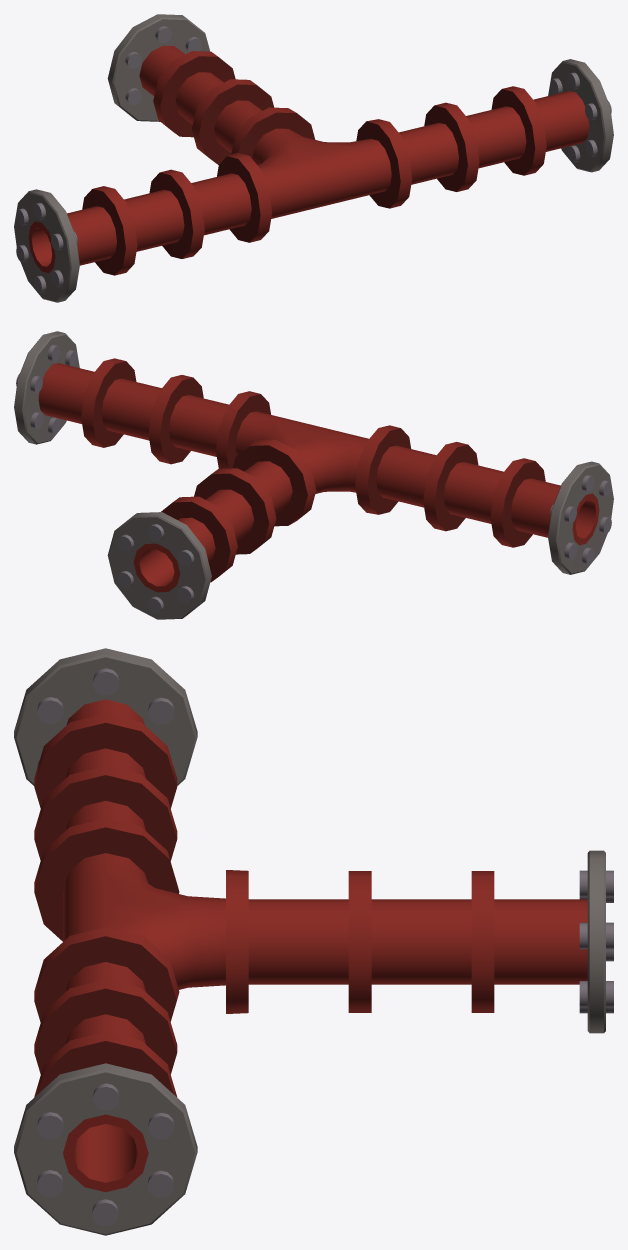
The model's file is Pipe-TwoEndsFixed.fbx.
3 renders of one model, top to bottom at view 1: azimuth 30°, elevation 25°; view 2: azimuth 150°, elevation 25°; view 3: azimuth 270°, elevation 25°, orthographic. The views are drawn at different scales.
Parts seen in each view (by area): view 1: Pipe-TwoEndsFixed; view 2: Pipe-TwoEndsFixed; view 3: Pipe-TwoEndsFixed.
Boxes of the visible parts, <box> form: Pipe-TwoEndsFixed: <box>14,14,613,302</box>; Pipe-TwoEndsFixed: <box>14,331,613,619</box>; Pipe-TwoEndsFixed: <box>14,648,613,1235</box>.
Size of the model in its own units: 14.51 by 2.62 by 8.57.
